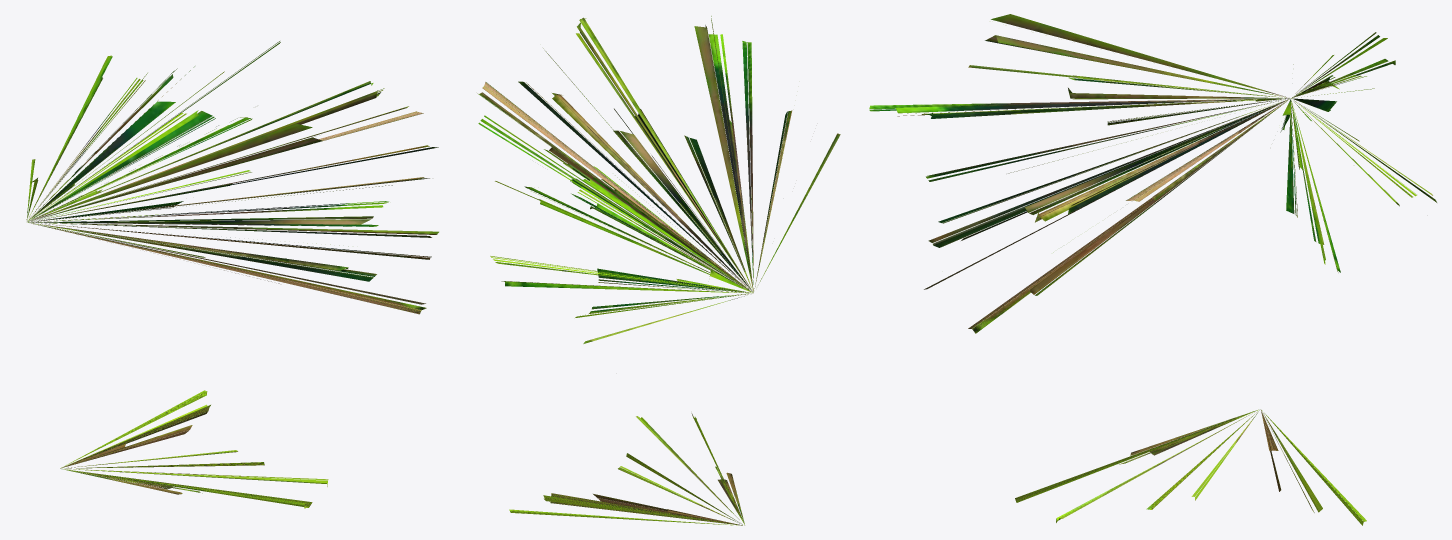
Rendered from nature_oak_small_02.glb.
3 views of the same model, side by side, from view 1: azimuth 30°, elevation 25°; view 2: azimuth 150°, elevation 25°; view 3: azimuth 270°, elevation 25° (orthographic). The views are drawn at different scales.
Parts seen in each view (by area): view 1: geometry_0; view 2: geometry_0; view 3: geometry_0.
Boxes of the visible parts, x1=… form: geometry_0: x1=26, y1=41, x2=438, y2=508; geometry_0: x1=477, y1=16, x2=840, y2=525; geometry_0: x1=869, y1=14, x2=1436, y2=525.
Bounding box in the file's own units: 0.8131 × 0.8963 × 0.9612.
Materials: 1 (1 with a texture image).
